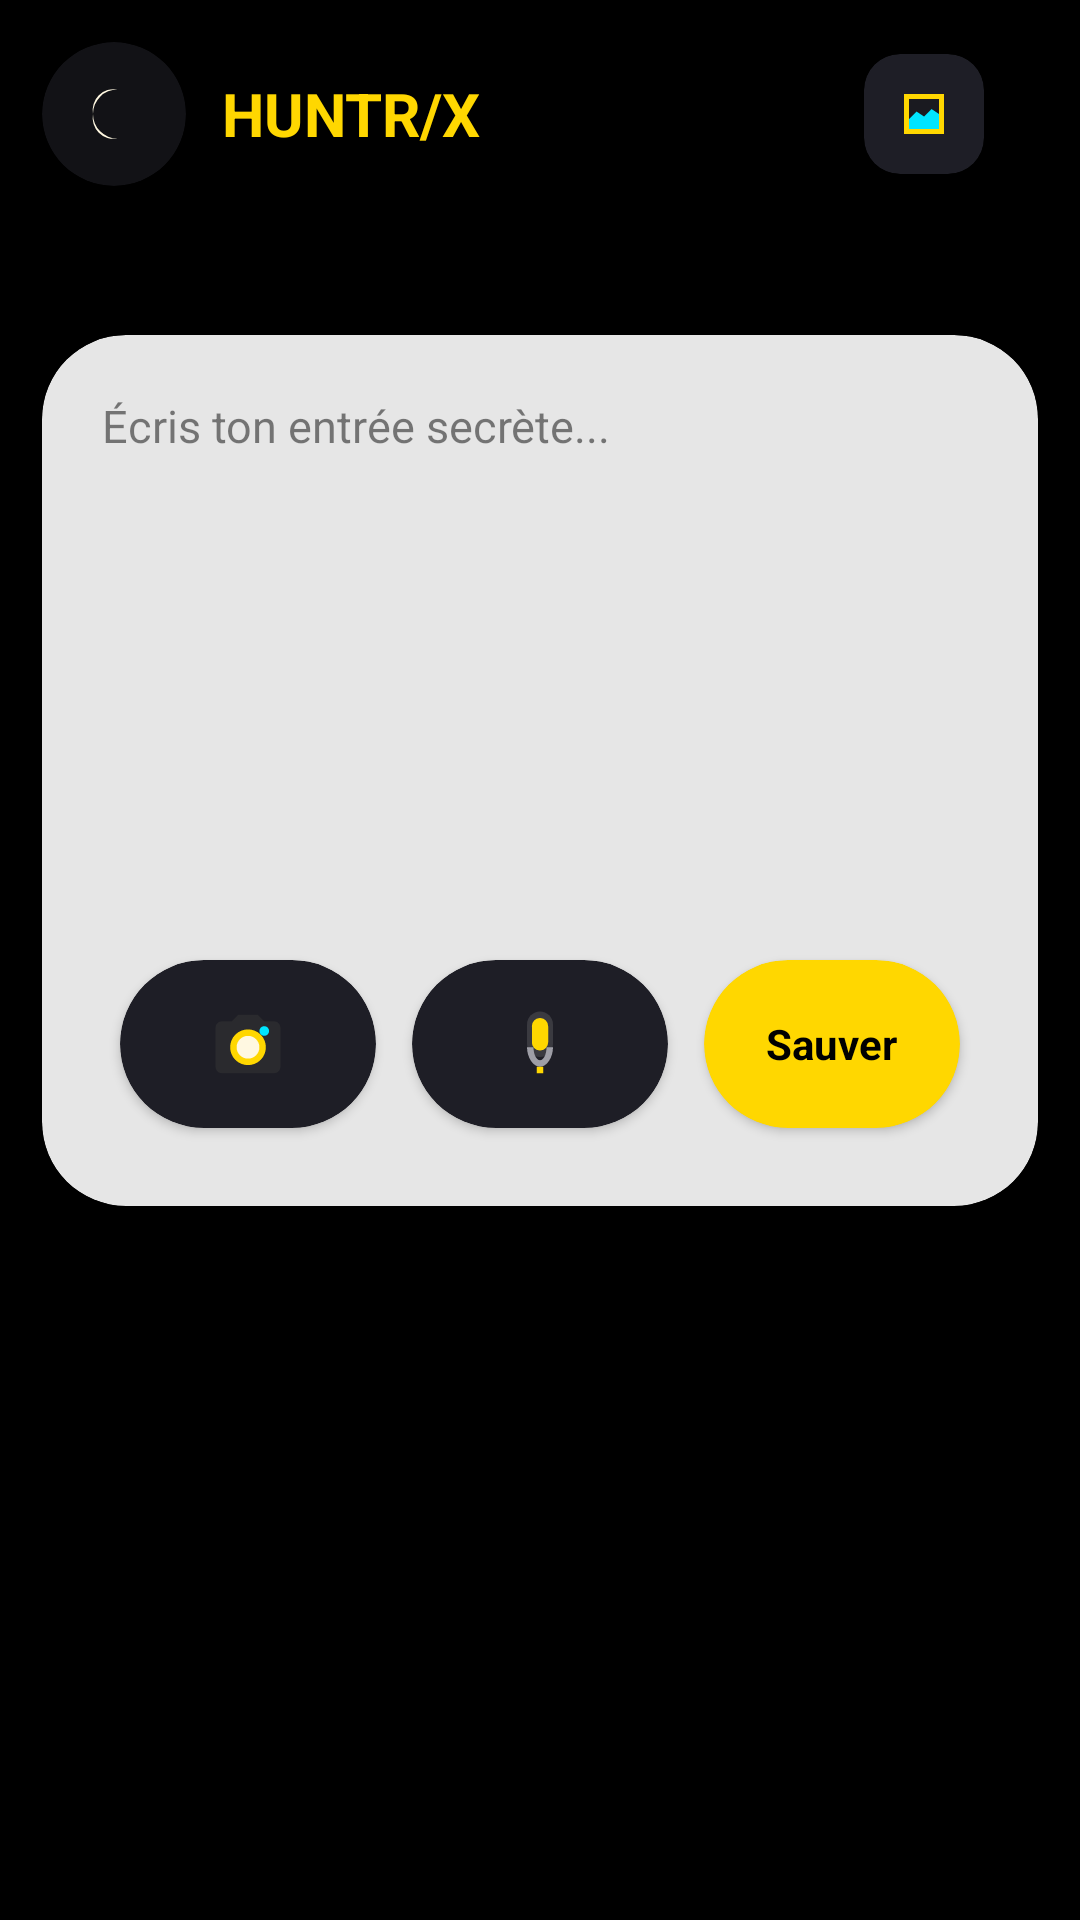

Where icons sit on this 1080 x 1920 app screen, as [left=x1, top=y1, right=x2, bottom=y2]:
mic 3d: [left=527, top=1012, right=553, bottom=1074]
moon 3d: [left=92, top=89, right=117, bottom=139]
